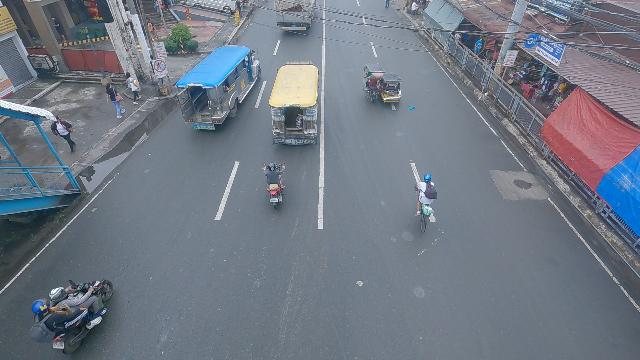jeepney: (174, 45, 262, 132), (269, 60, 321, 147)
motorcycle: (30, 272, 122, 348), (262, 161, 287, 212)
truck: (272, 0, 318, 35)
